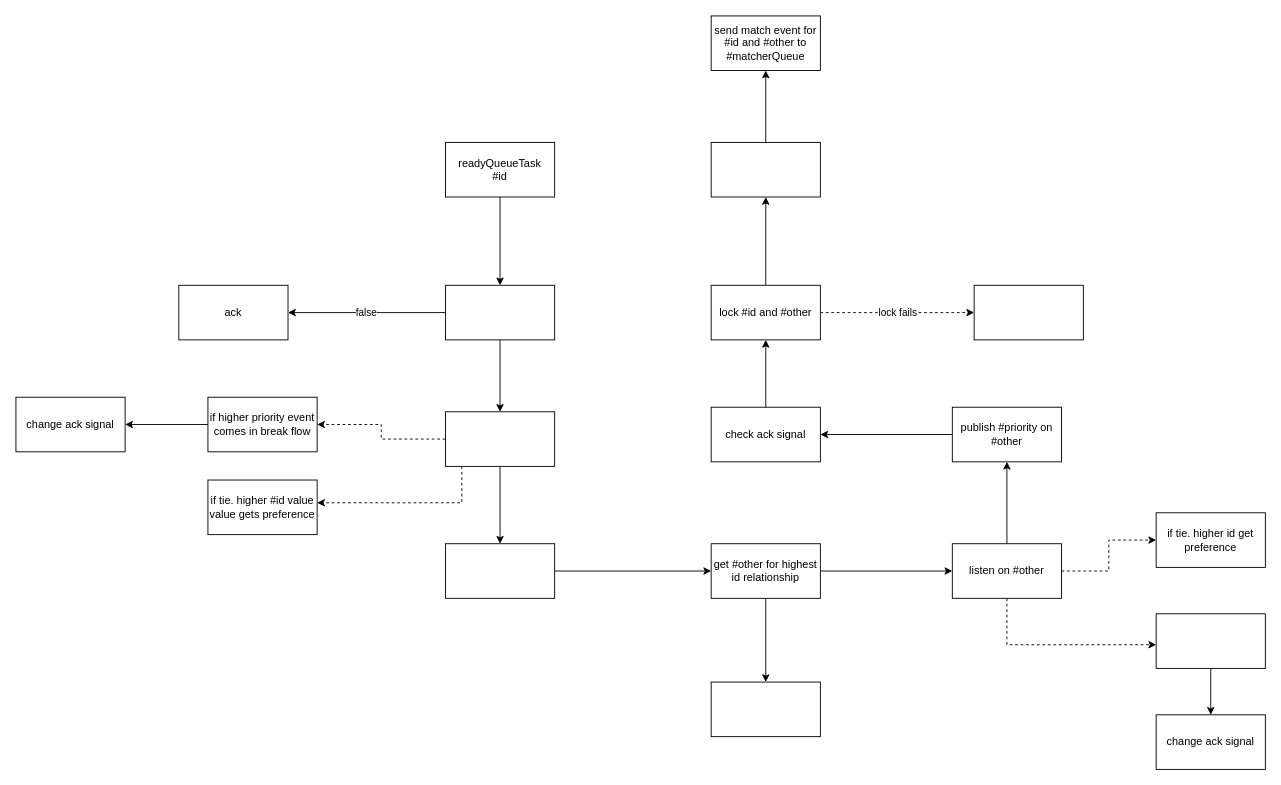
The diagram is 1281 pixels wide and 785 high, and some of its shapes have lost their labels. Here are the shapes that lost their labels. From the top down, the box of each, then its label:
(710, 142, 820, 197): remove #id and #other from #readySet
(445, 284, 555, 340): check #id is in #readySet
(973, 284, 1083, 340): nack
(445, 411, 555, 466): listen of #id
(445, 543, 555, 598): search relationships of #id to #readySet
(1155, 613, 1265, 668): if higher priority comes in
(710, 681, 820, 737): write relationship to cache withe expire
